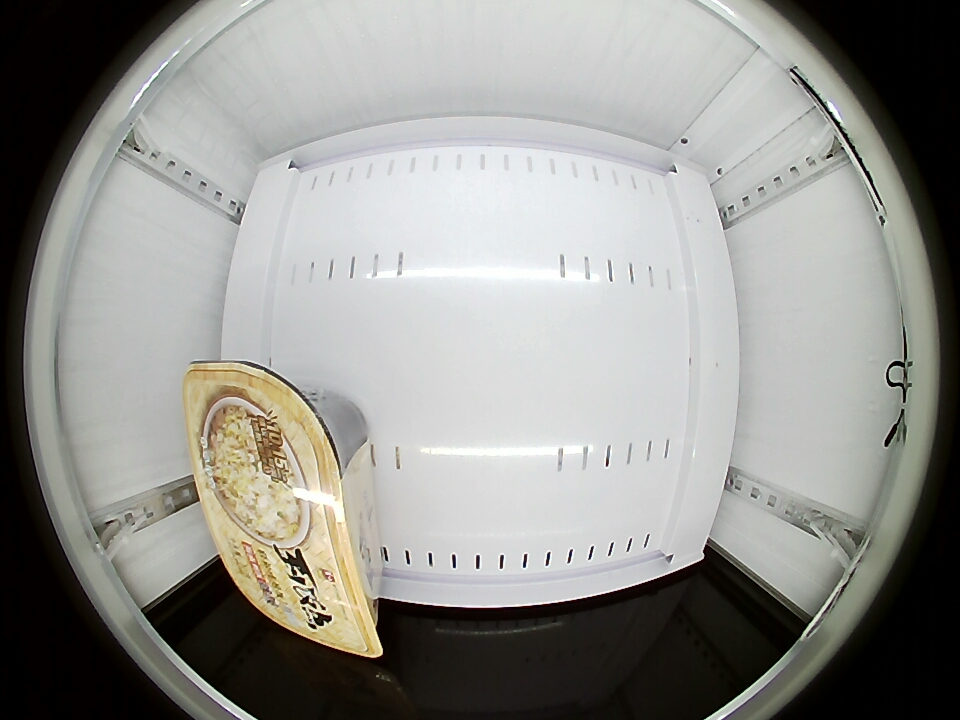daofandian1: (185, 360, 378, 656)
